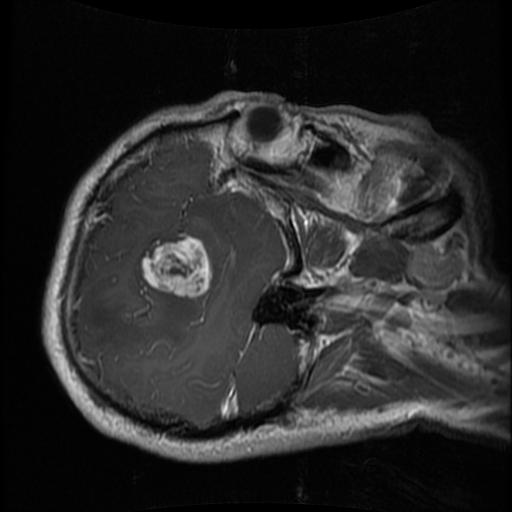glioma: (143, 238, 213, 298)
